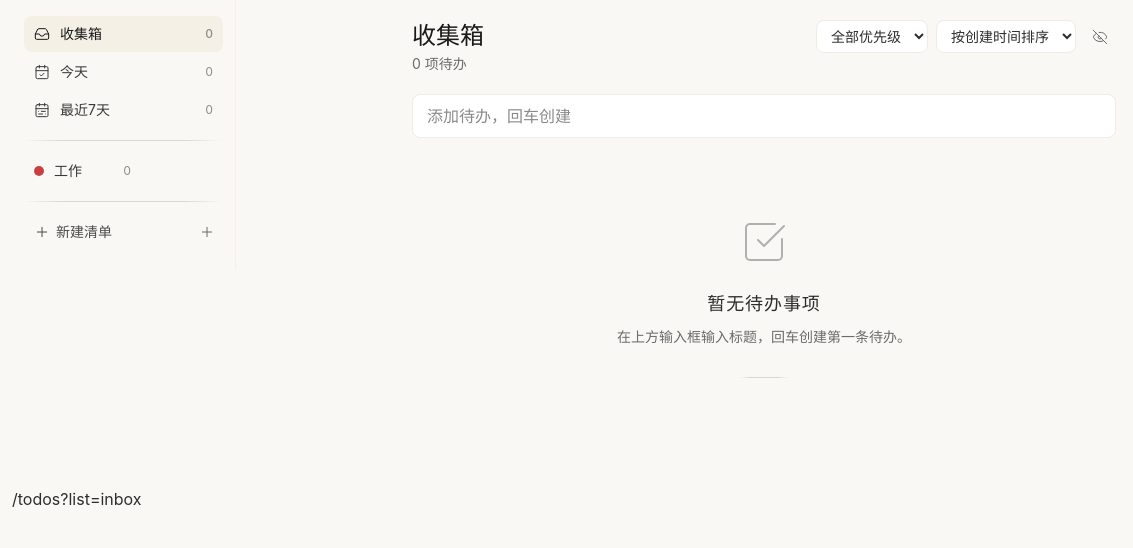
Test: Todos 页 · 三栏重构（B2-T1） › 视图与路由同步（D9） › 点击清单栏切换视图并 replace 更新参数（智能清单与用户清单）
Step 1. Click the button with aria-label "今天（0 项待办）" → (124, 72), box [24,54,223,90]
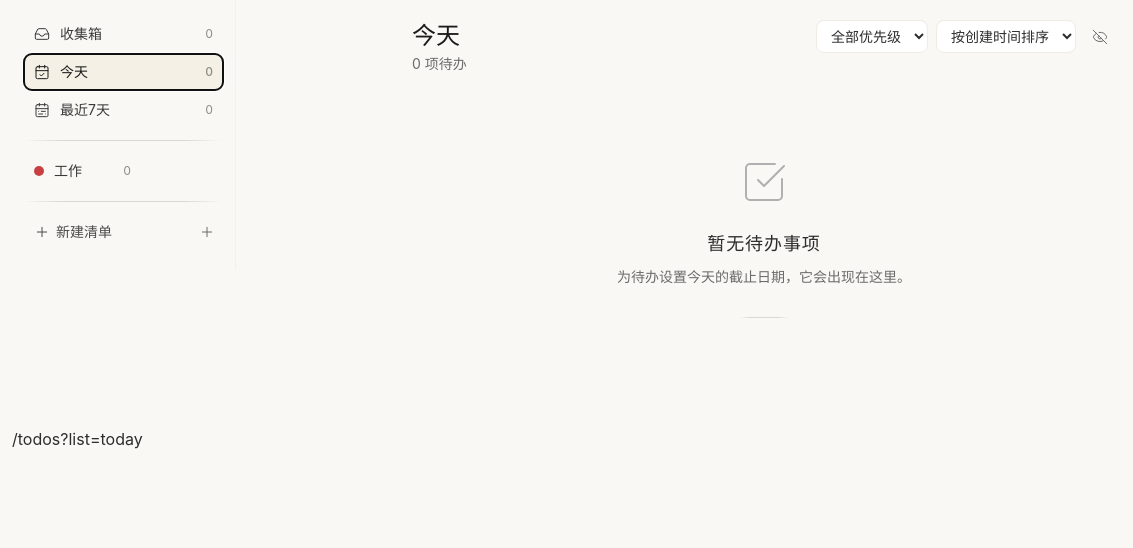
Expected: the text with test id "location-probe" shows "list=today", [60,429,143,449]
Expected: the heading "今天" is shown, [412,20,467,52]
Step 2. Click the button with aria-label "工作（0 项待办）" → (82, 171), box [24,153,141,189]
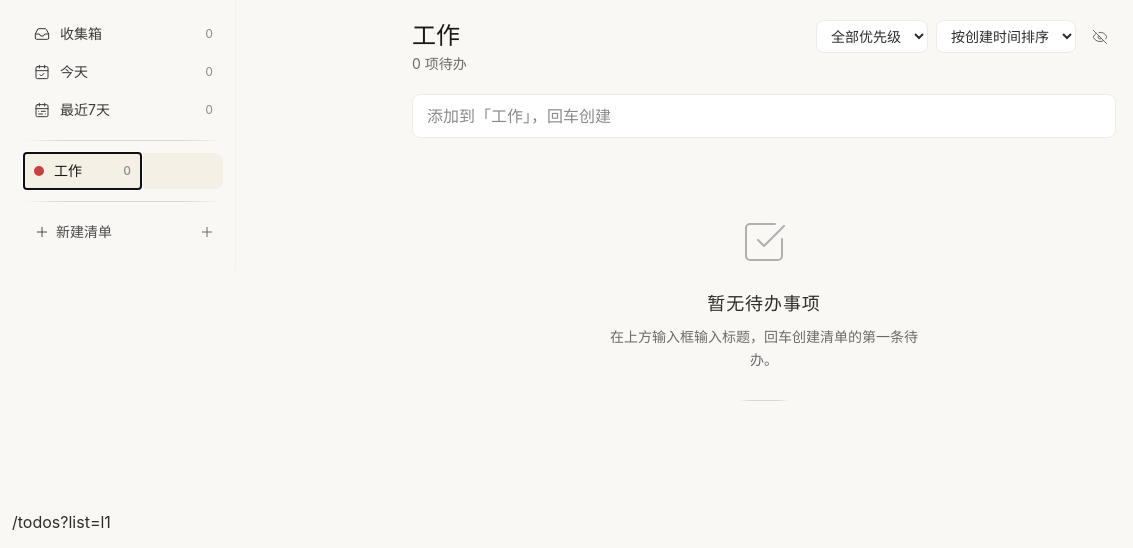
Expected: the text with test id "location-probe" shows "list=l1", [60,512,111,532]
Expected: the heading "工作" is shown, [412,20,467,52]
